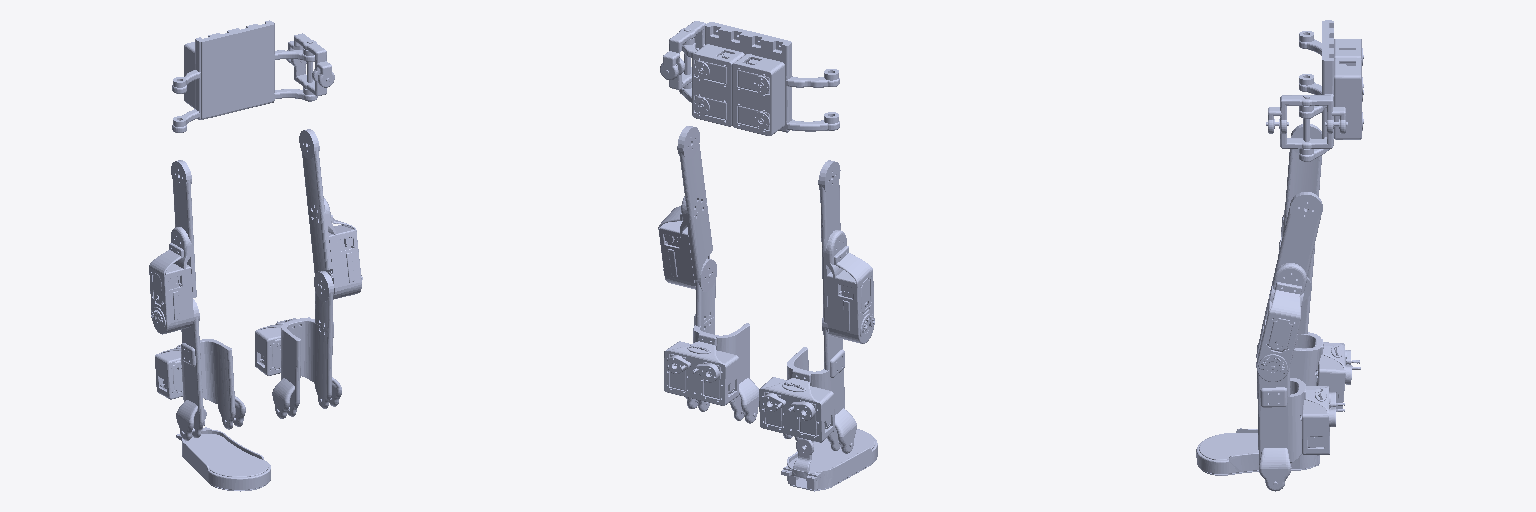
robot.urdf — exo_ros_33:
<robot
  name="exo_ros_33">
  <link
    name="pelviz">
    <inertial>
      <origin
        xyz="0.104858925832825 0.142423098334833 0.196983763816381"
        rpy="0 0 0" />
      <mass
        value="0.876180506785054" />
      <inertia
        ixx="0.000542716087592879"
        ixy="-1.88988098707544E-06"
        ixz="2.77946712790327E-06"
        iyy="0.00181893616699862"
        iyz="-2.82148369387847E-05"
        izz="0.0018274599707449" />
    </inertial>
    <visual>
      <origin
        xyz="0 0 0"
        rpy="0 0 0" />
      <geometry>
        <mesh
          filename="package://exo_ros_33/meshes/pelviz.STL" />
      </geometry>
      <material
        name="">
        <color
          rgba="0.792156862745098 0.819607843137255 0.933333333333333 1" />
      </material>
    </visual>
    <collision>
      <origin
        xyz="0 0 0"
        rpy="0 0 0" />
      <geometry>
        <mesh
          filename="package://exo_ros_33/meshes/pelviz.STL" />
      </geometry>
    </collision>
  </link>
  <link
    name="hip_left_y">
    <inertial>
      <origin
        xyz="3.91489940153311E-05 0.064658467084771 0.00019501930046692"
        rpy="0 0 0" />
      <mass
        value="0.0865282073086405" />
      <inertia
        ixx="6.2898823263754E-06"
        ixy="-4.76591689072289E-09"
        ixz="1.97203996620386E-08"
        iyy="5.150889962998E-06"
        iyz="-2.37412429486962E-08"
        izz="1.13918898641058E-06" />
    </inertial>
    <visual>
      <origin
        xyz="0 0 0"
        rpy="0 0 0" />
      <geometry>
        <mesh
          filename="package://exo_ros_33/meshes/hip_left_y.STL" />
      </geometry>
      <material
        name="">
        <color
          rgba="0.792156862745098 0.819607843137255 0.933333333333333 1" />
      </material>
    </visual>
    <collision>
      <origin
        xyz="0 0 0"
        rpy="0 0 0" />
      <geometry>
        <mesh
          filename="package://exo_ros_33/meshes/hip_left_y.STL" />
      </geometry>
    </collision>
  </link>
  <joint
    name="hip_left_y_j"
    type="revolute">
    <origin
      xyz="0.22985 -0.24294 0.078481"
      rpy="1.5708 0 0" />
    <parent
      link="pelviz" />
    <child
      link="hip_left_y" />
    <axis
      xyz="0 1 0" />
    <limit
      effort="0"
      velocity="0" />
  </joint>
  <link
    name="hip_left_r">
    <inertial>
      <origin
        xyz="0.0267450489884958 -0.0578970138026583 -0.022764403905338"
        rpy="0 0 0" />
      <mass
        value="0.577322611792791" />
      <inertia
        ixx="0.00199162169853065"
        ixy="-2.92633289726122E-06"
        ixz="-1.3597145517085E-05"
        iyy="0.000385603527413131"
        iyz="-0.000341820278449354"
        izz="0.00181446392966294" />
    </inertial>
    <visual>
      <origin
        xyz="0 0 0"
        rpy="0 0 0" />
      <geometry>
        <mesh
          filename="package://exo_ros_33/meshes/hip_left_r.STL" />
      </geometry>
      <material
        name="">
        <color
          rgba="0.792156862745098 0.819607843137255 0.933333333333333 1" />
      </material>
    </visual>
    <collision>
      <origin
        xyz="0 0 0"
        rpy="0 0 0" />
      <geometry>
        <mesh
          filename="package://exo_ros_33/meshes/hip_left_r.STL" />
      </geometry>
    </collision>
  </link>
  <joint
    name="hip_left_r_j"
    type="revolute">
    <origin
      xyz="0 0.0618 0"
      rpy="0 0 0" />
    <parent
      link="hip_left_y" />
    <child
      link="hip_left_r" />
    <axis
      xyz="-0.0038502 0 0.99999" />
    <limit
      effort="0"
      velocity="0" />
  </joint>
  <link
    name="hip_left_p">
    <inertial>
      <origin
        xyz="0.000116188399237882 -0.159183576861761 0.018732669909887"
        rpy="0 0 0" />
      <mass
        value="0.286678555449467" />
      <inertia
        ixx="0.00114218476024795"
        ixy="4.17774250045193E-07"
        ixz="6.66598467189894E-07"
        iyy="9.25186037107998E-05"
        iyz="0.000208313587693522"
        izz="0.00105234705913894" />
    </inertial>
    <visual>
      <origin
        xyz="0 0 0"
        rpy="0 0 0" />
      <geometry>
        <mesh
          filename="package://exo_ros_33/meshes/hip_left_p.STL" />
      </geometry>
      <material
        name="">
        <color
          rgba="0.792156862745098 0.819607843137255 0.933333333333333 1" />
      </material>
    </visual>
    <collision>
      <origin
        xyz="0 0 0"
        rpy="0 0 0" />
      <geometry>
        <mesh
          filename="package://exo_ros_33/meshes/hip_left_p.STL" />
      </geometry>
    </collision>
  </link>
  <joint
    name="hip_left_p_j"
    type="revolute">
    <origin
      xyz="-0.000190151250868298 -0.141040740535492 0.000764273538165411"
      rpy="-1.5520679122256 1.36372537683641 -1.55379524725434" />
    <parent
      link="hip_left_r" />
    <child
      link="hip_left_p" />
    <axis
      xyz="0 0 1" />
  </joint>
  <link
    name="kn_left_p">
    <inertial>
      <origin
        xyz="-0.0290920923453293 -0.127917844640058 -0.0344149100743372"
        rpy="0 0 0" />
      <mass
        value="0.501847197637487" />
      <inertia
        ixx="0.000968508521631296"
        ixy="-0.00014253644827161"
        ixz="-4.98896343566965E-05"
        iyy="0.000582614975689886"
        iyz="-4.29126917684989E-05"
        izz="0.000745246810998592" />
    </inertial>
    <visual>
      <origin
        xyz="0 0 0"
        rpy="0 0 0" />
      <geometry>
        <mesh
          filename="package://exo_ros_33/meshes/kn_left_p.STL" />
      </geometry>
      <material
        name="">
        <color
          rgba="0.792156862745098 0.819607843137255 0.933333333333333 1" />
      </material>
    </visual>
    <collision>
      <origin
        xyz="0 0 0"
        rpy="0 0 0" />
      <geometry>
        <mesh
          filename="package://exo_ros_33/meshes/kn_left_p.STL" />
      </geometry>
    </collision>
  </link>
  <joint
    name="kn_left_p_j"
    type="revolute">
    <origin
      xyz="0 -0.2451 0"
      rpy="-0.33198 -1.5667 0.56022" />
    <parent
      link="hip_left_p" />
    <child
      link="kn_left_p" />
    <axis
      xyz="0.99999 -0.0013273 0.0038502" />
    <limit
      effort="0"
      velocity="0" />
  </joint>
  <link
    name="an_left_p">
    <inertial>
      <origin
        xyz="0.0299480772894787 -0.000490139450893934 -0.0319861956901267"
        rpy="0 0 0" />
      <mass
        value="0.0325752781010226" />
      <inertia
        ixx="4.1827946008887E-06"
        ixy="4.3165498514171E-08"
        ixz="-1.58654211807752E-12"
        iyy="6.81954692472972E-06"
        iyz="2.59657199417668E-14"
        izz="2.63816524469735E-06" />
    </inertial>
    <visual>
      <origin
        xyz="0 0 0"
        rpy="0 0 0" />
      <geometry>
        <mesh
          filename="package://exo_ros_33/meshes/an_left_p.STL" />
      </geometry>
      <material
        name="">
        <color
          rgba="0.792156862745098 0.819607843137255 0.933333333333333 1" />
      </material>
    </visual>
    <collision>
      <origin
        xyz="0 0 0"
        rpy="0 0 0" />
      <geometry>
        <mesh
          filename="package://exo_ros_33/meshes/an_left_p.STL" />
      </geometry>
    </collision>
  </link>
  <joint
    name="an_left_p"
    type="revolute">
    <origin
      xyz="-0.00028227 -0.20999 0.00091884"
      rpy="-1.0239 1.5634 -1.0252" />
    <parent
      link="kn_left_p" />
    <child
      link="an_left_p" />
    <axis
      xyz="0 0 1" />
    <limit
      effort="0"
      velocity="0" />
  </joint>
  <link
    name="foot_left_r">
    <inertial>
      <origin
        xyz="-0.0369632419415512 -0.04546124148597 0.000479491277962624"
        rpy="0 0 0" />
      <mass
        value="0.204475860340454" />
      <inertia
        ixx="2.90497073208471E-05"
        ixy="-6.56522208553928E-06"
        ixz="-2.22662489505551E-06"
        iyy="7.42295471484823E-05"
        iyz="-1.10264062070131E-07"
        izz="7.35948390317777E-05" />
    </inertial>
    <visual>
      <origin
        xyz="0 0 0"
        rpy="0 0 0" />
      <geometry>
        <mesh
          filename="package://exo_ros_33/meshes/foot_left_r.STL" />
      </geometry>
      <material
        name="">
        <color
          rgba="0.792156862745098 0.819607843137255 0.933333333333333 1" />
      </material>
    </visual>
    <collision>
      <origin
        xyz="0 0 0"
        rpy="0 0 0" />
      <geometry>
        <mesh
          filename="package://exo_ros_33/meshes/foot_left_r.STL" />
      </geometry>
    </collision>
  </link>
  <joint
    name="foot_left_r_j"
    type="revolute">
    <origin
      xyz="0 0 -0.0319862168751982"
      rpy="0.0225659260994187 -0.000369291604219776 -4.16688040508173E-06" />
    <parent
      link="an_left_p" />
    <child
      link="foot_left_r" />
    <axis
      xyz="-0.999866097381136 0.0163642081328786 0" />
  </joint>
  <link
    name="hip_right_y">
    <inertial>
      <origin
        xyz="-3.60098880210595E-05 0.0646585007264542 0.000195615502412039"
        rpy="0 0 0" />
      <mass
        value="0.0865285747250378" />
      <inertia
        ixx="6.28792400897118E-06"
        ixy="4.38378294955236E-09"
        ixz="-1.02517952463626E-07"
        iyy="5.15088991911782E-06"
        iyz="-2.3813900883028E-08"
        izz="1.14116218729898E-06" />
    </inertial>
    <visual>
      <origin
        xyz="0 0 0"
        rpy="0 0 0" />
      <geometry>
        <mesh
          filename="package://exo_ros_33/meshes/hip_right_y.STL" />
      </geometry>
      <material
        name="">
        <color
          rgba="0.792156862745098 0.819607843137255 0.933333333333333 1" />
      </material>
    </visual>
    <collision>
      <origin
        xyz="0 0 0"
        rpy="0 0 0" />
      <geometry>
        <mesh
          filename="package://exo_ros_33/meshes/hip_right_y.STL" />
      </geometry>
    </collision>
  </link>
  <joint
    name="hip_right_y_jt"
    type="revolute">
    <origin
      xyz="-0.0201508725834897 -0.242940802979819 0.078481026971267"
      rpy="1.5707963267949 0 0" />
    <parent
      link="pelviz" />
    <child
      link="hip_right_y" />
    <axis
      xyz="0 1 0" />
  </joint>
  <link
    name="hip_right_r">
    <inertial>
      <origin
        xyz="-0.0281204156627468 -0.0574298724097848 -0.0233214951273971"
        rpy="0 0 0" />
      <mass
        value="0.577328048094972" />
      <inertia
        ixx="0.0019911506063478"
        ixy="-3.02166901134011E-05"
        ixz="4.67708719458098E-06"
        iyy="0.000385657690986371"
        iyz="-0.000341155469876319"
        izz="0.00181430252622785" />
    </inertial>
    <visual>
      <origin
        xyz="0 0 0"
        rpy="0 0 0" />
      <geometry>
        <mesh
          filename="package://exo_ros_33/meshes/hip_right_r.STL" />
      </geometry>
      <material
        name="">
        <color
          rgba="0.792156862745098 0.819607843137255 0.933333333333333 1" />
      </material>
    </visual>
    <collision>
      <origin
        xyz="0 0 0"
        rpy="0 0 0" />
      <geometry>
        <mesh
          filename="package://exo_ros_33/meshes/hip_right_r.STL" />
      </geometry>
    </collision>
  </link>
  <joint
    name="hip_right_r_j"
    type="revolute">
    <origin
      xyz="0 0.0617999999999999 0"
      rpy="0.000611129957313708 -1.52465930505774E-19 0.03066452600196" />
    <parent
      link="hip_right_y" />
    <child
      link="hip_right_r" />
    <axis
      xyz="0.0199193369534882 0 0.999801590324467" />
  </joint>
  <link
    name="hip_right_p">
    <inertial>
      <origin
        xyz="-0.000119618394748305 -0.159183675797561 0.0186713820055504"
        rpy="0 0 0" />
      <mass
        value="0.286678786770336" />
      <inertia
        ixx="0.00114082283895834"
        ixy="-4.92449747490006E-07"
        ixz="-6.32813919597187E-07"
        iyy="9.11577765871152E-05"
        iyz="0.000207600861223223"
        izz="0.00105234571661871" />
    </inertial>
    <visual>
      <origin
        xyz="0 0 0"
        rpy="0 0 0" />
      <geometry>
        <mesh
          filename="package://exo_ros_33/meshes/hip_right_p.STL" />
      </geometry>
      <material
        name="">
        <color
          rgba="0.792156862745098 0.819607843137255 0.933333333333333 1" />
      </material>
    </visual>
    <collision>
      <origin
        xyz="0 0 0"
        rpy="0 0 0" />
      <geometry>
        <mesh
          filename="package://exo_ros_33/meshes/hip_right_p.STL" />
      </geometry>
    </collision>
  </link>
  <joint
    name="hip_right_p_j"
    type="revolute">
    <origin
      xyz="-0.00224563414996934 -0.141023053693907 -0.000190306199193579"
      rpy="-1.30747180450226 -1.49420421154988 1.29231310022966" />
    <parent
      link="hip_right_r" />
    <child
      link="hip_right_p" />
    <axis
      xyz="0 0 -1" />
  </joint>
  <link
    name="kn_right_p">
    <inertial>
      <origin
        xyz="0.0268771429724586 -0.129133258163332 -0.0320135317528766"
        rpy="0 0 0" />
      <mass
        value="0.501849157200272" />
      <inertia
        ixx="0.000974619665860643"
        ixy="0.000136228288494725"
        ixz="4.23829899706871E-05"
        iyy="0.000575898524589217"
        iyz="-4.22724491114263E-05"
        izz="0.000745670509427132" />
    </inertial>
    <visual>
      <origin
        xyz="0 0 0"
        rpy="0 0 0" />
      <geometry>
        <mesh
          filename="package://exo_ros_33/meshes/kn_right_p.STL" />
      </geometry>
      <material
        name="">
        <color
          rgba="0.792156862745098 0.819607843137255 0.933333333333333 1" />
      </material>
    </visual>
    <collision>
      <origin
        xyz="0 0 0"
        rpy="0 0 0" />
      <geometry>
        <mesh
          filename="package://exo_ros_33/meshes/kn_right_p.STL" />
      </geometry>
    </collision>
  </link>
  <joint
    name="kn_right_p_j"
    type="revolute">
    <origin
      xyz="0 -0.245095328703611 0"
      rpy="0.673236241644809 1.54530624534361 0.652019335309999" />
    <parent
      link="hip_right_p" />
    <child
      link="kn_right_p" />
    <axis
      xyz="0.999675145463739 -0.0158918383837859 -0.0199261891699496" />
  </joint>
  <link
    name="an_right_p">
    <inertial>
      <origin
        xyz="0.02995 -0.00035271 0.032486"
        rpy="0 0 0" />
      <mass
        value="0.032575" />
      <inertia
        ixx="4.1825E-06"
        ixy="3.1065E-08"
        ixz="-1.5603E-12"
        iyy="6.8199E-06"
        iyz="1.8375E-14"
        izz="2.6382E-06" />
    </inertial>
    <visual>
      <origin
        xyz="0 0 0"
        rpy="0 0 0" />
      <geometry>
        <mesh
          filename="package://exo_ros_33/meshes/an_right_p.STL" />
      </geometry>
      <material
        name="">
        <color
          rgba="0.79216 0.81961 0.93333 1" />
      </material>
    </visual>
    <collision>
      <origin
        xyz="0 0 0"
        rpy="0 0 0" />
      <geometry>
        <mesh
          filename="package://exo_ros_33/meshes/an_right_p.STL" />
      </geometry>
    </collision>
  </link>
  <joint
    name="an_right_p_j"
    type="revolute">
    <origin
      xyz="-0.0032248 -0.2099 0.0056129"
      rpy="1.8156 1.4885 1.7989" />
    <parent
      link="kn_right_p" />
    <child
      link="an_right_p" />
    <axis
      xyz="0 0 1" />
    <limit
      effort="0"
      velocity="0" />
  </joint>
  <link
    name="foot_right_r">
    <inertial>
      <origin
        xyz="-0.037135 -0.045448 -0.0019367"
        rpy="0 0 0" />
      <mass
        value="0.19985" />
      <inertia
        ixx="2.8497E-05"
        ixy="-8.0822E-06"
        ixz="1.6545E-06"
        iyy="6.411E-05"
        iyz="1.1206E-07"
        izz="6.3614E-05" />
    </inertial>
    <visual>
      <origin
        xyz="0 0 0"
        rpy="0 0 0" />
      <geometry>
        <mesh
          filename="package://exo_ros_33/meshes/foot_right_r.STL" />
      </geometry>
      <material
        name="">
        <color
          rgba="0.79216 0.81961 0.93333 1" />
      </material>
    </visual>
    <collision>
      <origin
        xyz="0 0 0"
        rpy="0 0 0" />
      <geometry>
        <mesh
          filename="package://exo_ros_33/meshes/foot_right_r.STL" />
      </geometry>
    </collision>
  </link>
  <joint
    name="foot_right_r_j"
    type="revolute">
    <origin
      xyz="0 0 0.032486"
      rpy="-0.014623 0.00017221 -1.2591E-06" />
    <parent
      link="an_right_p" />
    <child
      link="foot_right_r" />
    <axis
      xyz="-0.99993 0.011776 0" />
    <limit
      effort="0"
      velocity="0" />
  </joint>
</robot>

--- Facts derived from the render (not from the file) ---
Views: 3 orthographic renders of the robot side by side, from view 1: azimuth 30°, elevation 25°; view 2: azimuth 150°, elevation 25°; view 3: azimuth 270°, elevation 25°.
Model exo_ros_33 with 13 links and 12 joints (12 revolute), rooted at pelviz, posed all joints at 0.
Links seen in each view (by area): view 1: pelviz, kn_left_p, kn_right_p, hip_right_p, hip_left_p, foot_right_r, hip_left_y; view 2: pelviz, kn_left_p, kn_right_p, hip_right_p, hip_left_p, foot_right_r, hip_left_y; view 3: kn_left_p, hip_left_p, pelviz, kn_right_p, foot_right_r, hip_left_y, hip_right_p.
Link boxes in pixels (box(x1,y1,x2,y2)): pelviz: box(172, 20, 317, 132); kn_left_p: box(255, 271, 341, 418); kn_right_p: box(155, 299, 245, 440); hip_right_p: box(149, 160, 196, 334); hip_left_p: box(299, 129, 362, 299); foot_right_r: box(176, 409, 270, 491); hip_left_y: box(286, 33, 334, 101); pelviz: box(679, 22, 839, 135); kn_left_p: box(664, 258, 758, 423); kn_right_p: box(759, 318, 856, 453); hip_right_p: box(818, 160, 874, 343); hip_left_p: box(658, 126, 712, 289); foot_right_r: box(781, 429, 877, 491); hip_left_y: box(660, 21, 705, 89); kn_left_p: box(1257, 345, 1344, 491); hip_left_p: box(1256, 192, 1322, 381); pelviz: box(1299, 20, 1363, 161); kn_right_p: box(1290, 277, 1360, 411); foot_right_r: box(1196, 428, 1319, 475); hip_left_y: box(1266, 95, 1347, 148); hip_right_p: box(1278, 124, 1321, 283).
Bounding box of the posed robot: 0.3673 × 0.2535 × 0.7434 m (x, y, z).
7 mesh visuals loaded from 13 distinct referenced files (7 binary STL); not drawn: 6 (reference not matched to a file when rendering).